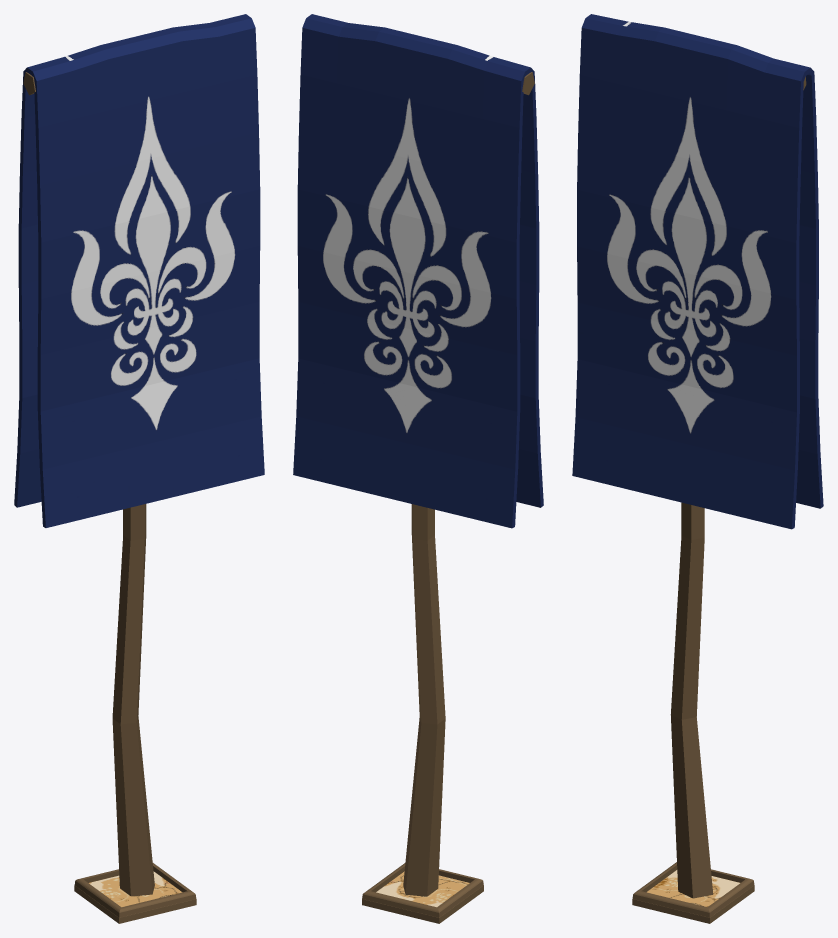
Rendered from Aunore.fbx.
The picture shows the model from 3 angles, left to right: view 1: azimuth 30°, elevation 25°; view 2: azimuth 150°, elevation 25°; view 3: azimuth 330°, elevation 25°; orthographic projection.
Parts seen in each view (by area): view 1: banner, Cube; view 2: banner, Cube; view 3: banner, Cube.
Part boxes in pixels (x1=…): banner: x1=14, y1=14, x2=264, y2=896; Cube: x1=74, y1=863, x2=196, y2=923; banner: x1=293, y1=14, x2=543, y2=896; Cube: x1=362, y1=863, x2=483, y2=923; banner: x1=572, y1=14, x2=823, y2=898; Cube: x1=632, y1=862, x2=754, y2=923.
Bounding box in the file's own units: 0.8618 × 0.3034 × 3.22.
